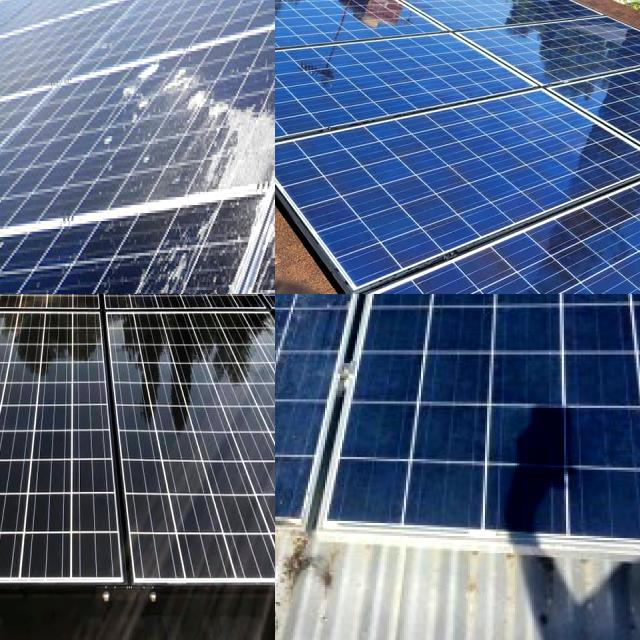bird: (188, 80, 272, 179), (116, 49, 172, 124), (138, 226, 196, 290), (275, 430, 307, 463), (275, 354, 292, 406), (275, 294, 318, 313), (275, 304, 301, 333), (304, 294, 354, 309), (275, 477, 297, 501), (275, 360, 296, 385)
crack: (275, 81, 640, 294), (97, 303, 275, 608), (0, 312, 170, 616), (275, 19, 532, 180), (501, 16, 640, 175), (445, 12, 640, 102), (93, 294, 275, 362), (0, 294, 144, 360), (0, 294, 107, 349)
